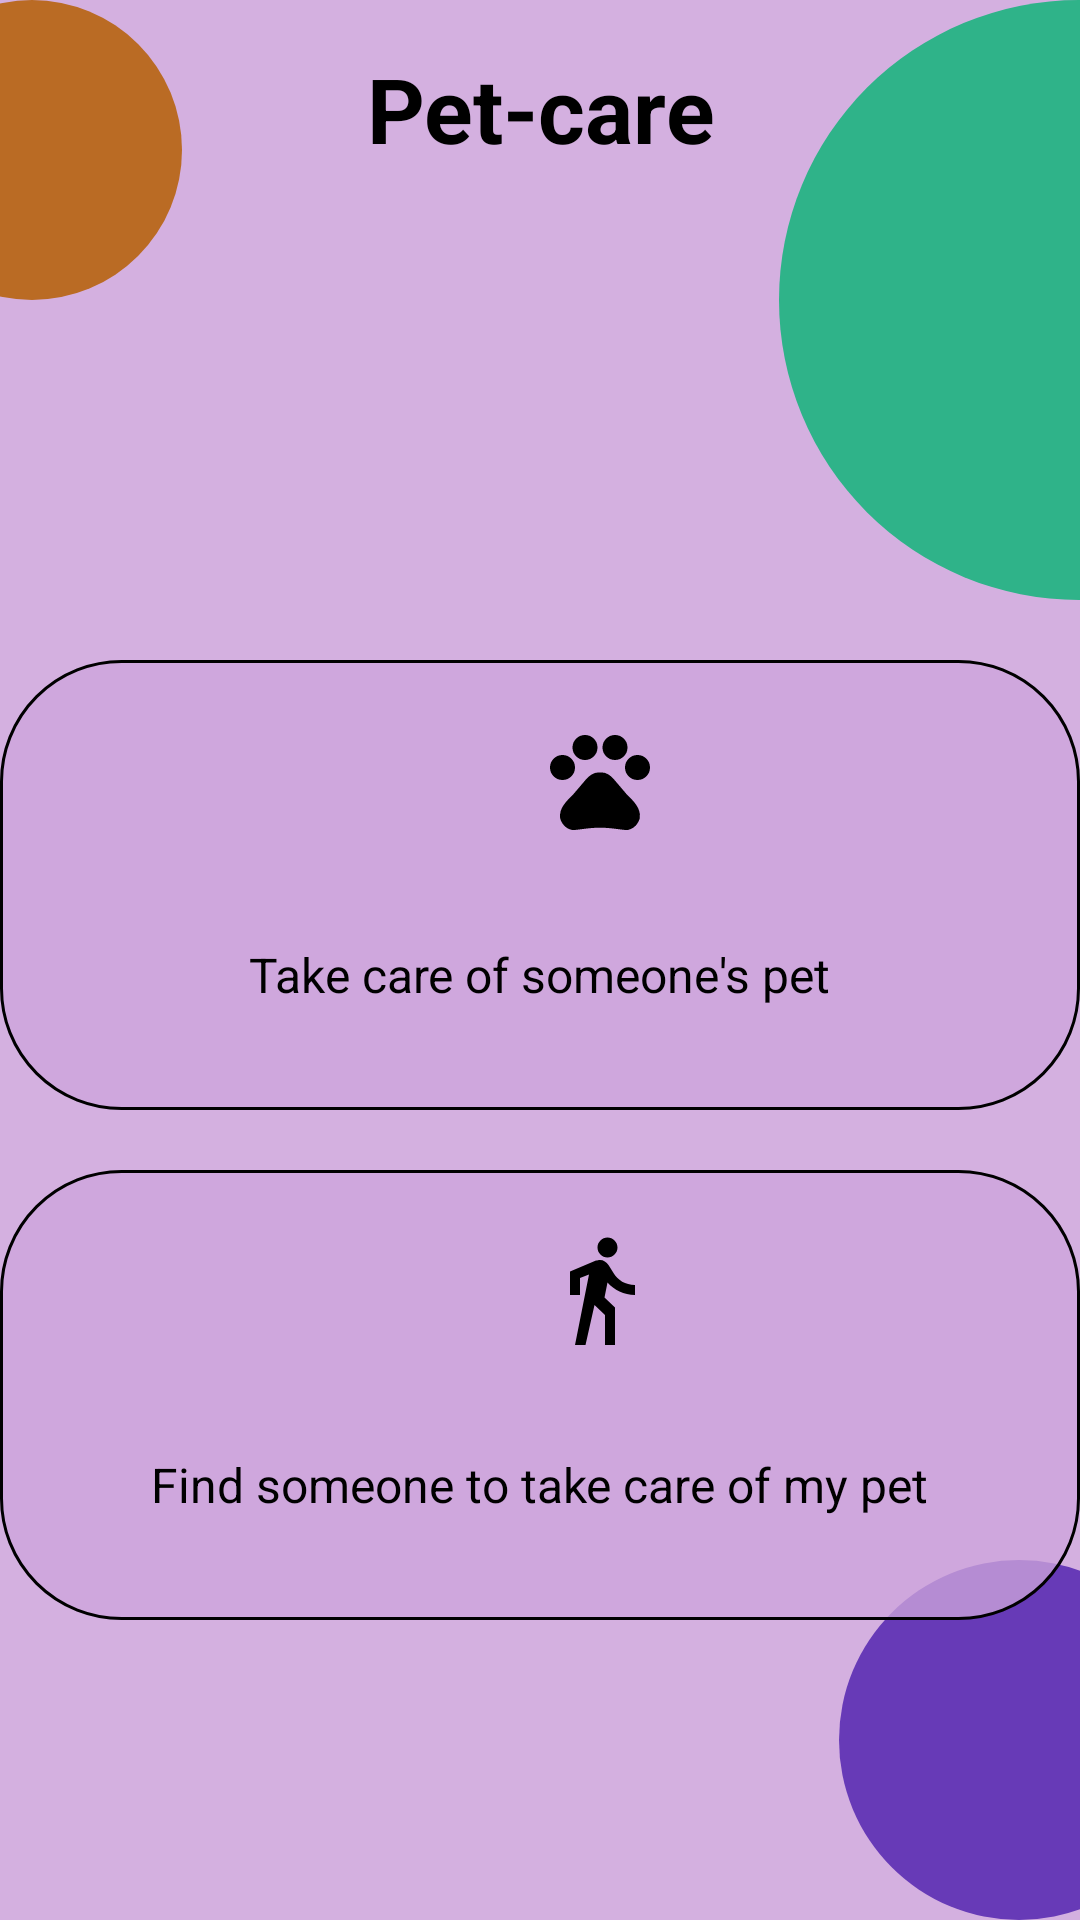

Named icons in this screenshot (1080px x 1920px) and their centers, [x,y]:
paw: [600,782]
walk: [602,1291]
